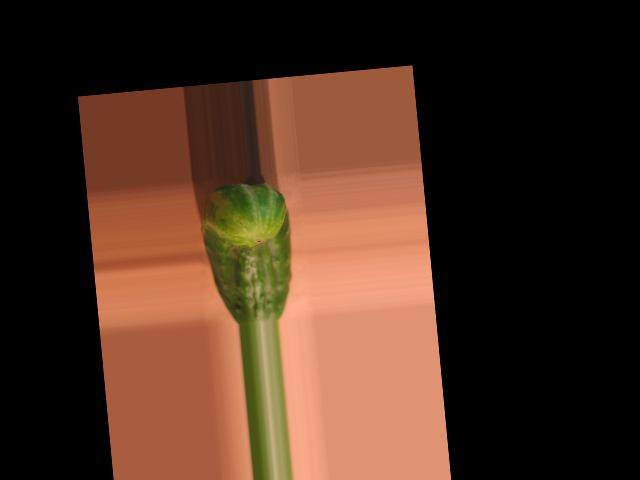cucumber: (198, 179, 299, 327)
